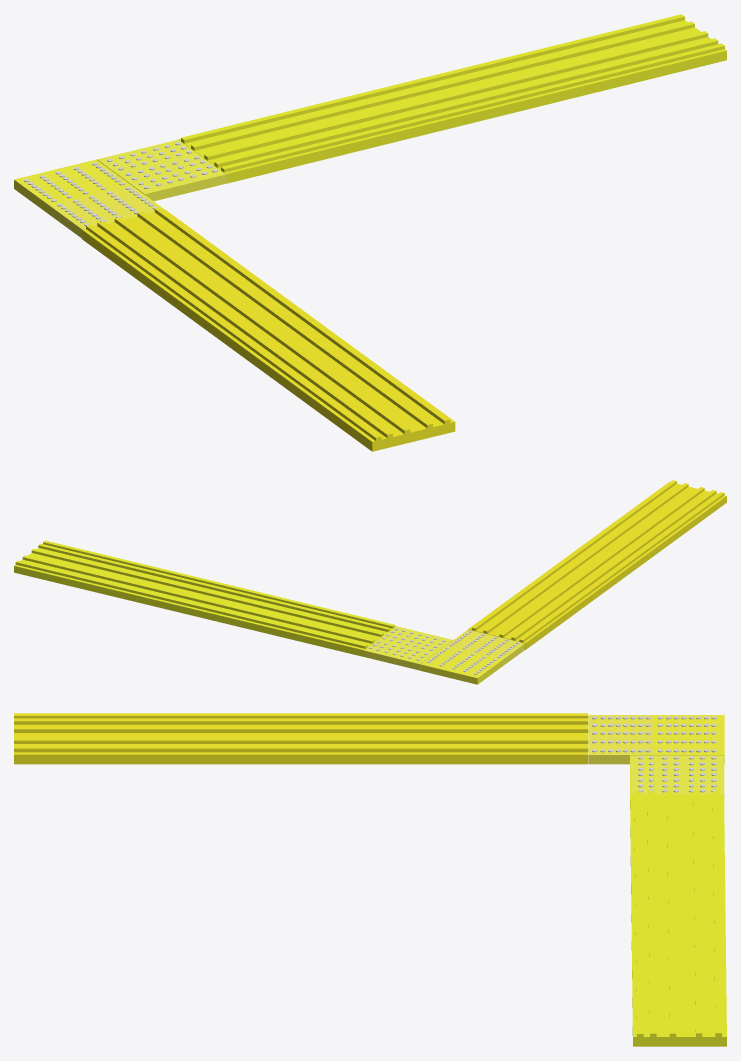
The model's file is track .fbx.
The picture shows the model from 3 angles, top to bottom: view 1: azimuth 30°, elevation 25°; view 2: azimuth 150°, elevation 25°; view 3: azimuth 270°, elevation 25°; orthographic projection. The views are drawn at different scales.
Parts seen in each view (by area): view 1: Cube.172, Cube, Cube.115, Cube.058, Cube.001; view 2: Cube.172, Cube, Cube.115, Cube.058, Cube.001; view 3: Cube, Cube.172, Cube.115, Cube.001, Cube.058.
Boxes of the visible parts, bbox=[...] form: Cube.172: bbox=[178, 14, 726, 183]; Cube: bbox=[82, 207, 455, 451]; Cube.115: bbox=[97, 139, 227, 201]; Cube.058: bbox=[14, 159, 131, 214]; Cube.001: bbox=[49, 185, 164, 238]; Cube.172: bbox=[14, 540, 395, 656]; Cube: bbox=[468, 480, 726, 649]; Cube.115: bbox=[362, 626, 452, 670]; Cube.058: bbox=[420, 646, 501, 684]; Cube.001: bbox=[445, 629, 525, 666]; Cube: bbox=[14, 713, 588, 764]; Cube.172: bbox=[630, 790, 726, 1046]; Cube.115: bbox=[630, 755, 724, 796]; Cube.001: bbox=[588, 715, 654, 764]; Cube.058: bbox=[654, 715, 724, 763].
Bounding box in the file's own units: 1459 × 27.74 × 1363.
